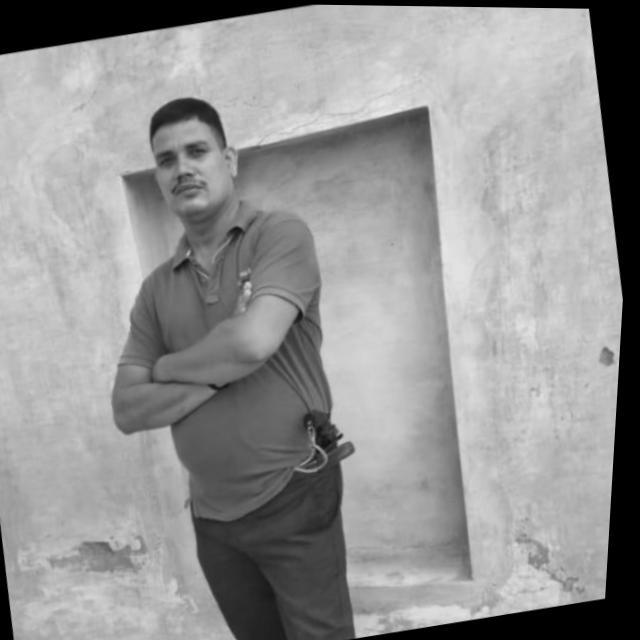weapon: (296, 398, 378, 488)
